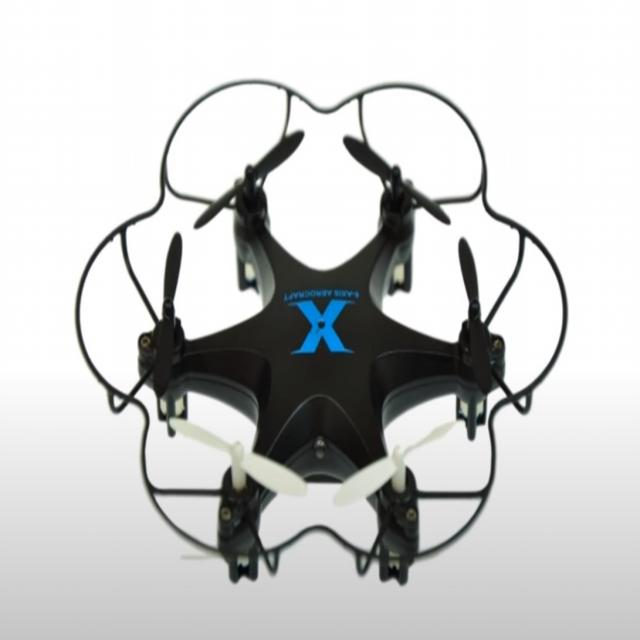drone: (68, 61, 576, 594)
